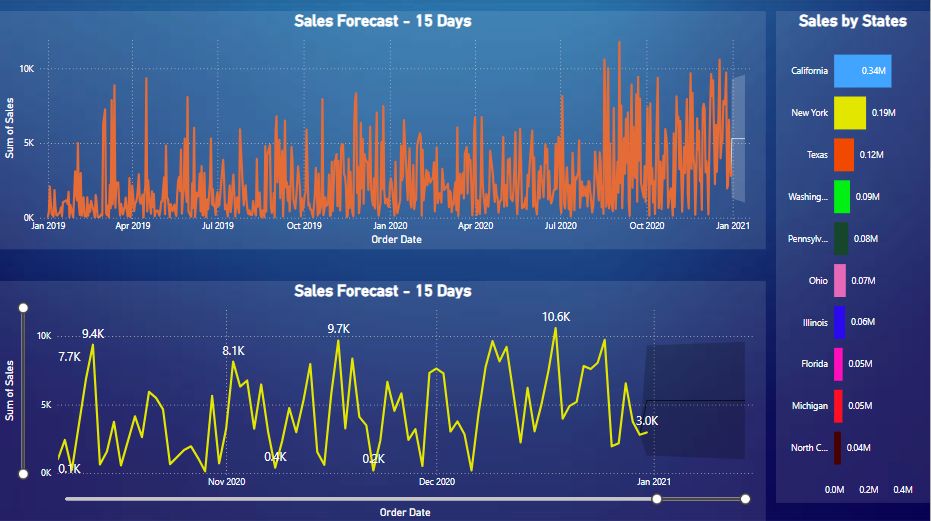

What the dashboard file says about the page in this screenshot:
{"tool":"powerbi","page":{"name":"Page 2","canvas":[1280,720],"ordinal":1},"visuals":[{"type":"lineChart","title":"Sales Forecast - 15 Days","fields":{"Y":["Sum(SuperStore_Sales_Dataset.Sales)"],"Category":["SuperStore_Sales_Dataset.Order Date"]},"box":[0,16.5,1054.3,327.6],"z":0},{"type":"lineChart","title":"Sales Forecast - 15 Days","fields":{"Y":["Sum(SuperStore_Sales_Dataset.Sales)"],"Category":["SuperStore_Sales_Dataset.Order Date"]},"box":[0,388.1,1054.3,331.7],"z":1000},{"type":"clusteredBarChart","title":"Sales by States","fields":{"Category":["SuperStore_Sales_Dataset.State"],"Y":["Sum(SuperStore_Sales_Dataset.Sales)"]},"box":[1068,16.5,212,677.2],"z":2000}]}

Visuals, with their boxes in screenshot pixels (x1, y1, x2, y2), scaled from the page's 1280x720 canvas onto the 931x521 screenshot:
"Sales Forecast - 15 Days" lineChart: pyautogui.locateOnScreen(0, 12, 767, 249)
"Sales Forecast - 15 Days" lineChart: pyautogui.locateOnScreen(0, 281, 767, 520)
"Sales by States" clusteredBarChart: pyautogui.locateOnScreen(777, 12, 930, 502)
